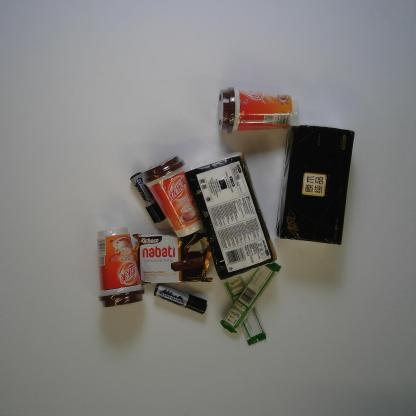Chocolate: (218, 258, 282, 334), (223, 273, 267, 347)
Dessert: (128, 230, 219, 288)
Instant Drink: (141, 154, 210, 240), (94, 224, 146, 310), (215, 84, 294, 135)
Stationery: (129, 169, 168, 224), (152, 282, 209, 316)
Tissue: (183, 148, 280, 283), (275, 125, 356, 248)
